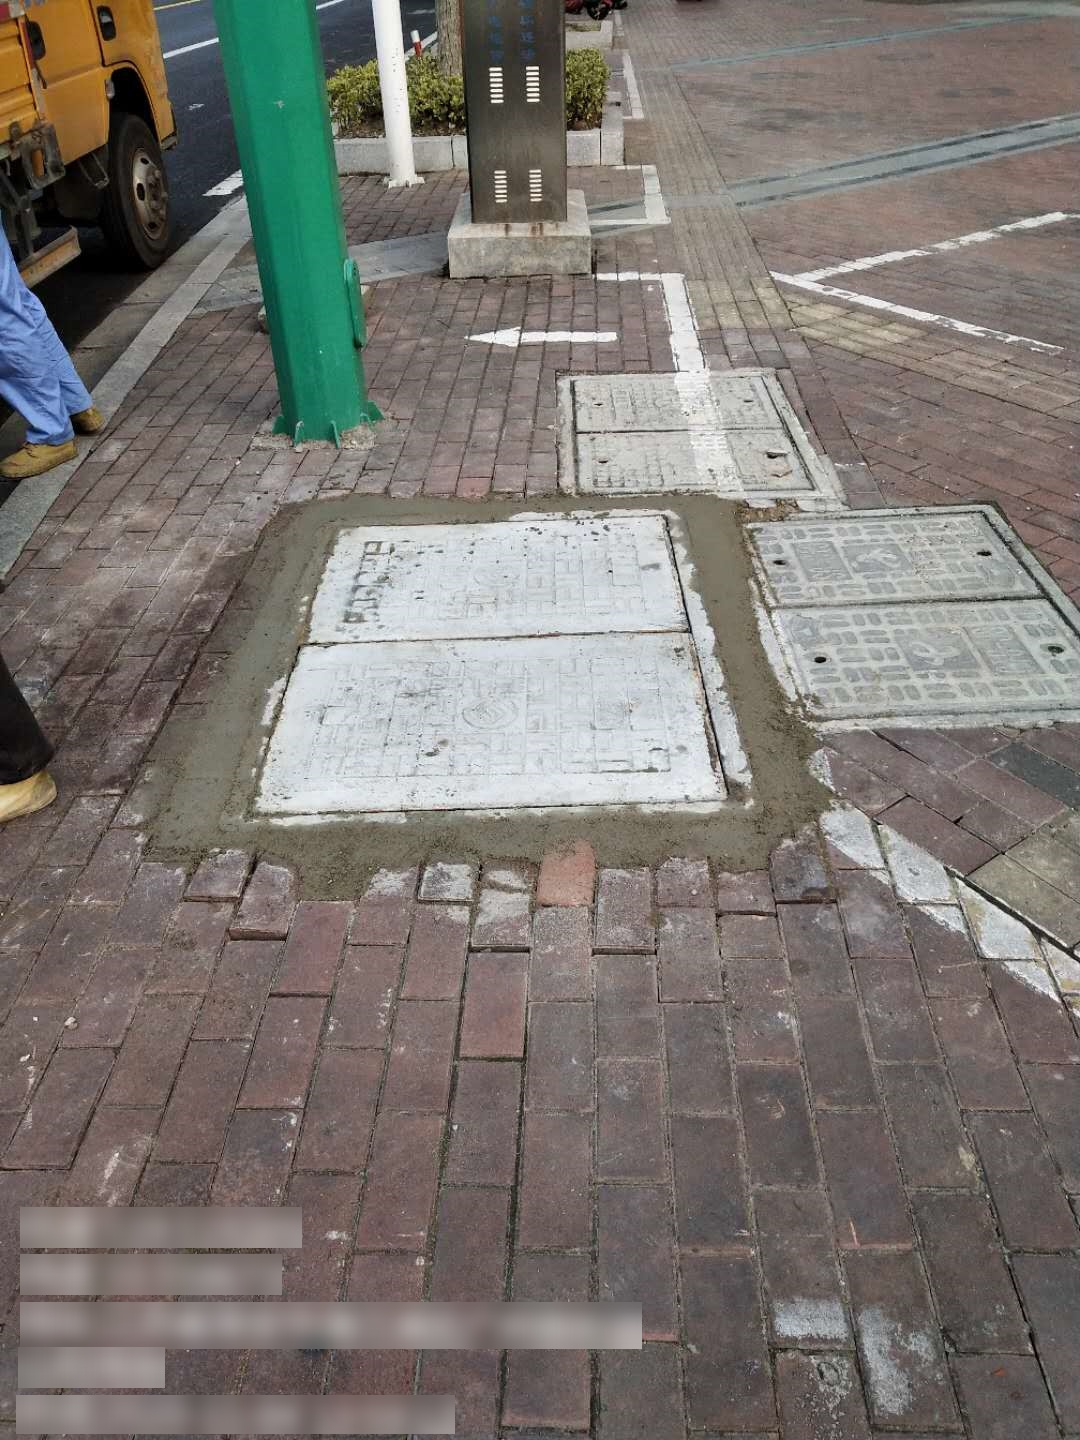good: (219, 506, 761, 827), (729, 500, 1080, 734), (554, 365, 839, 508)
